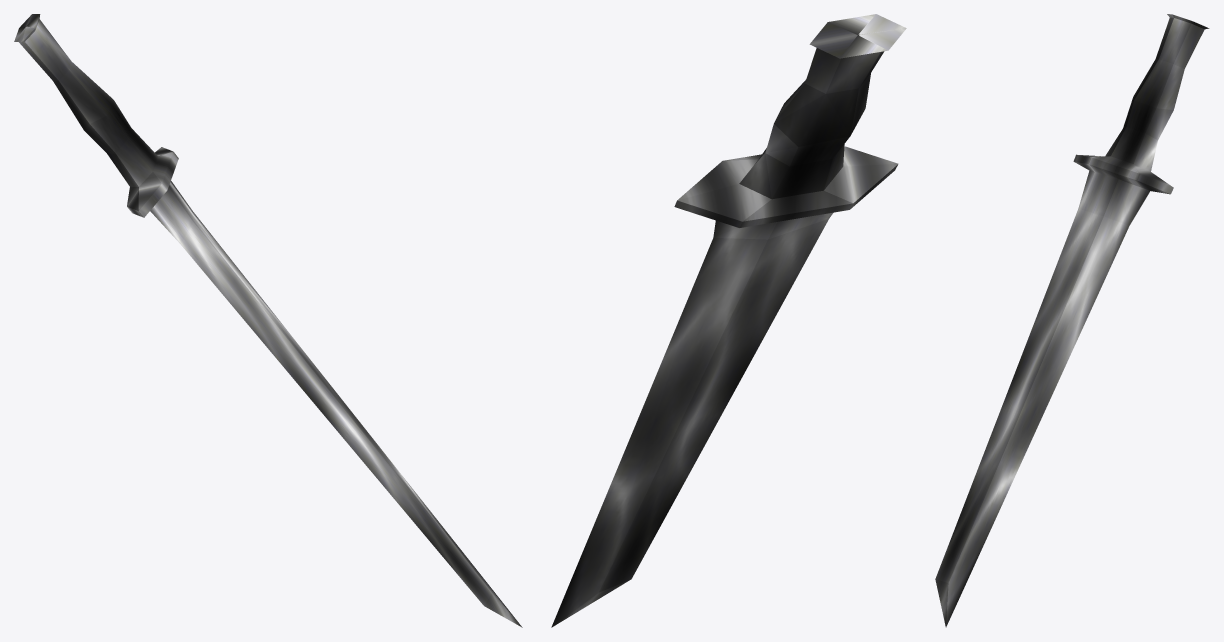
3 views of the same model, side by side, from view 1: azimuth 30°, elevation 25°; view 2: azimuth 150°, elevation 25°; view 3: azimuth 270°, elevation 25° (orthographic). The views are drawn at different scales.
Visible parts, largest first — view 1: J7; view 2: J7; view 3: J7.
Boxes of the visible parts, <box> form: J7: <box>14,14,522,627</box>; J7: <box>551,14,906,627</box>; J7: <box>935,14,1209,627</box>.
Size of the model in its own units: 1.54 by 2.35 by 1.23.
